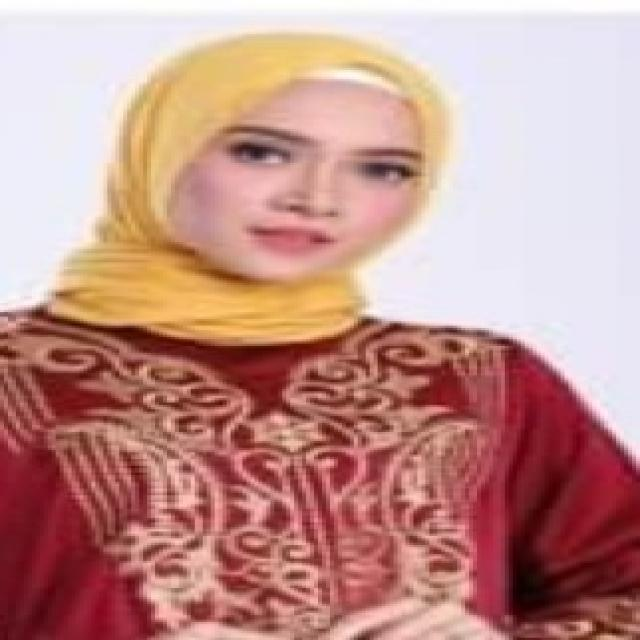head: (116, 25, 434, 295)
